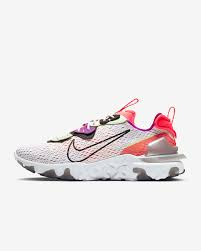nike: (58, 122, 134, 162)
